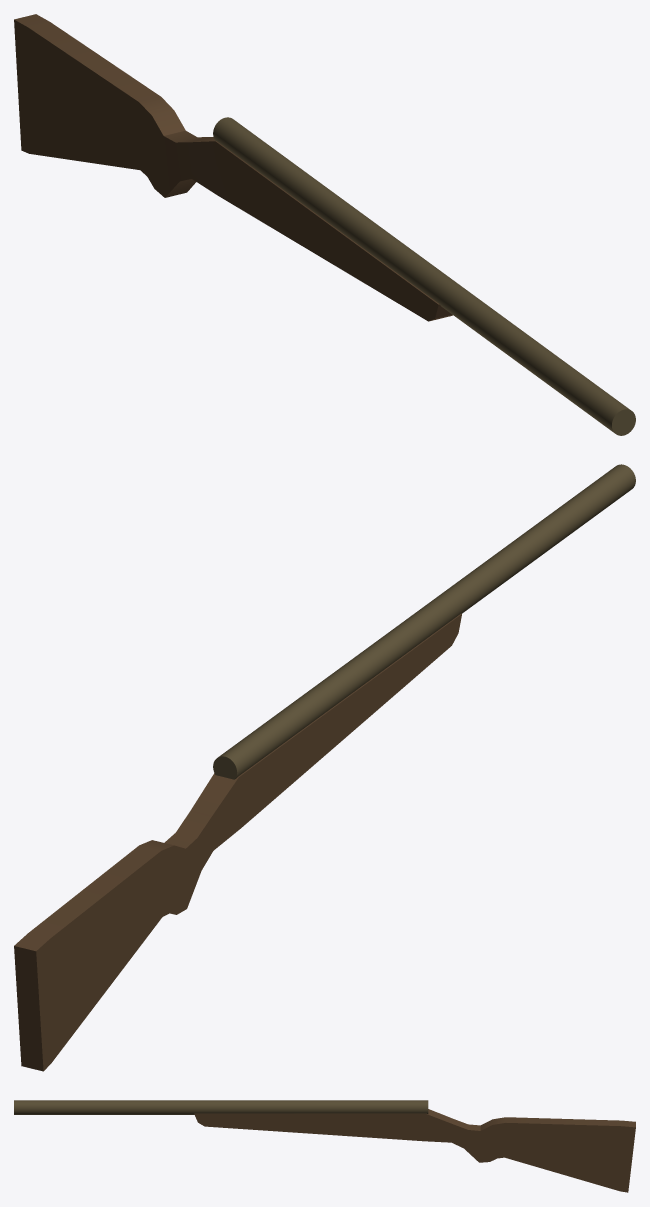
Rendered from Hunting Rifle.fbx.
3 renders of one model, top to bottom at view 1: azimuth 30°, elevation 25°; view 2: azimuth 150°, elevation 25°; view 3: azimuth 270°, elevation 25°, orthographic. The views are drawn at different scales.
Visible parts, largest first — view 1: Rifle Mesh; view 2: Rifle Mesh; view 3: Rifle Mesh.
Part boxes in pixels (bbox=[...]): Rifle Mesh: bbox=[14, 14, 635, 435]; Rifle Mesh: bbox=[14, 464, 635, 1071]; Rifle Mesh: bbox=[14, 1100, 635, 1192].
Size of the model in its own units: 7.69 by 52.08 by 330.
